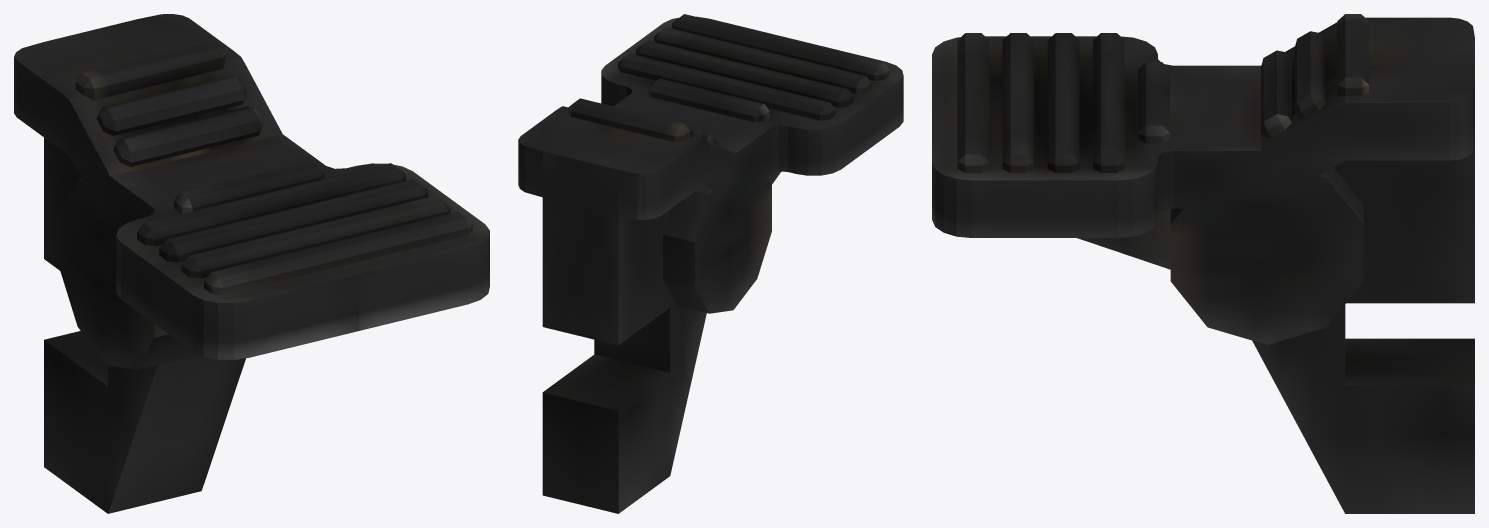
3 views of the same model, side by side, from view 1: azimuth 30°, elevation 25°; view 2: azimuth 150°, elevation 25°; view 3: azimuth 270°, elevation 25° (orthographic). The views are drawn at different scales.
Visible parts, largest first — view 1: TW_5c488a752e221602b412af63_PZ_Import; view 2: TW_5c488a752e221602b412af63_PZ_Import; view 3: TW_5c488a752e221602b412af63_PZ_Import.
Part boxes in pixels (<box>): TW_5c488a752e221602b412af63_PZ_Import: <box>14,14,489,513</box>; TW_5c488a752e221602b412af63_PZ_Import: <box>518,14,903,513</box>; TW_5c488a752e221602b412af63_PZ_Import: <box>932,14,1474,513</box>.
Bounding box in the file's own units: 0.0124 × 0.0197 × 0.0178.
1 material, 1 textured.
